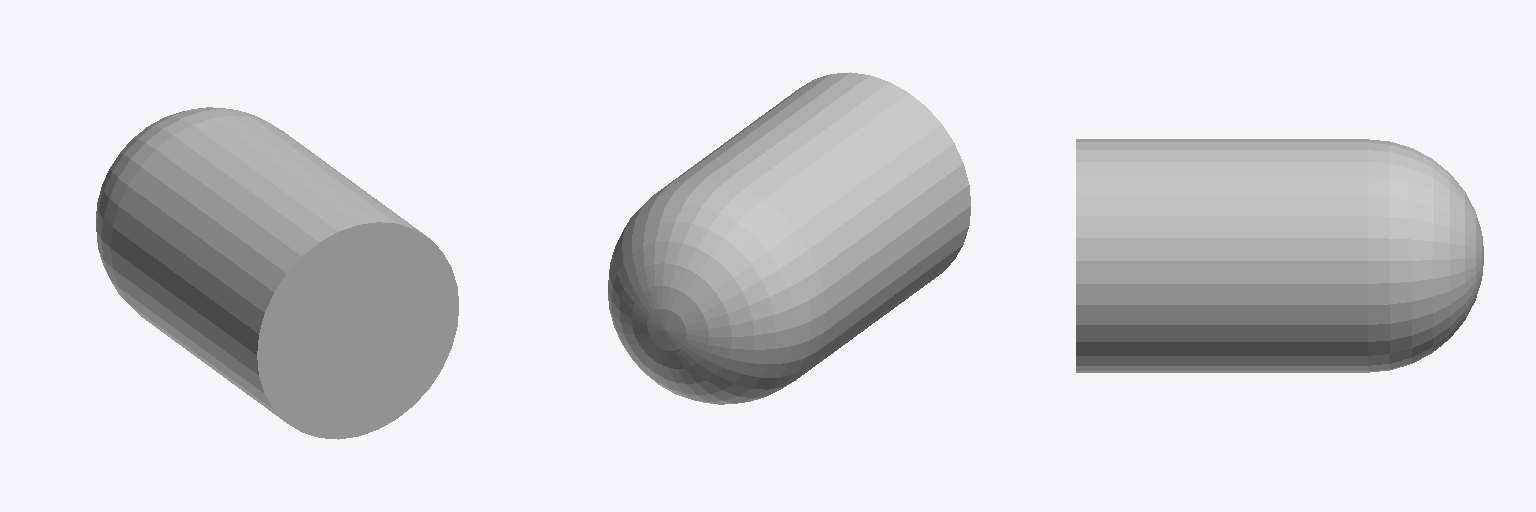
The model's file is bullet.obj.
3 renders of one model, left to right at view 1: azimuth 30°, elevation 25°; view 2: azimuth 150°, elevation 25°; view 3: azimuth 270°, elevation 25°, orthographic.
Visible parts, largest first — view 1: Cylinder; view 2: Cylinder; view 3: Cylinder.
Boxes of the visible parts, <box> form: Cylinder: <box>96,107,458,439</box>; Cylinder: <box>608,72,970,404</box>; Cylinder: <box>1076,139,1483,372</box>.
Bounding box in the file's own units: 2 × 2 × 3.5.